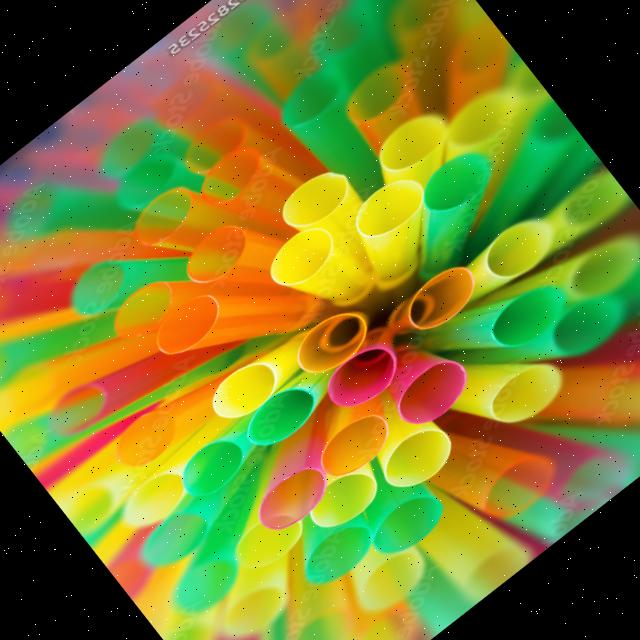plastic: (452, 311, 604, 453)
